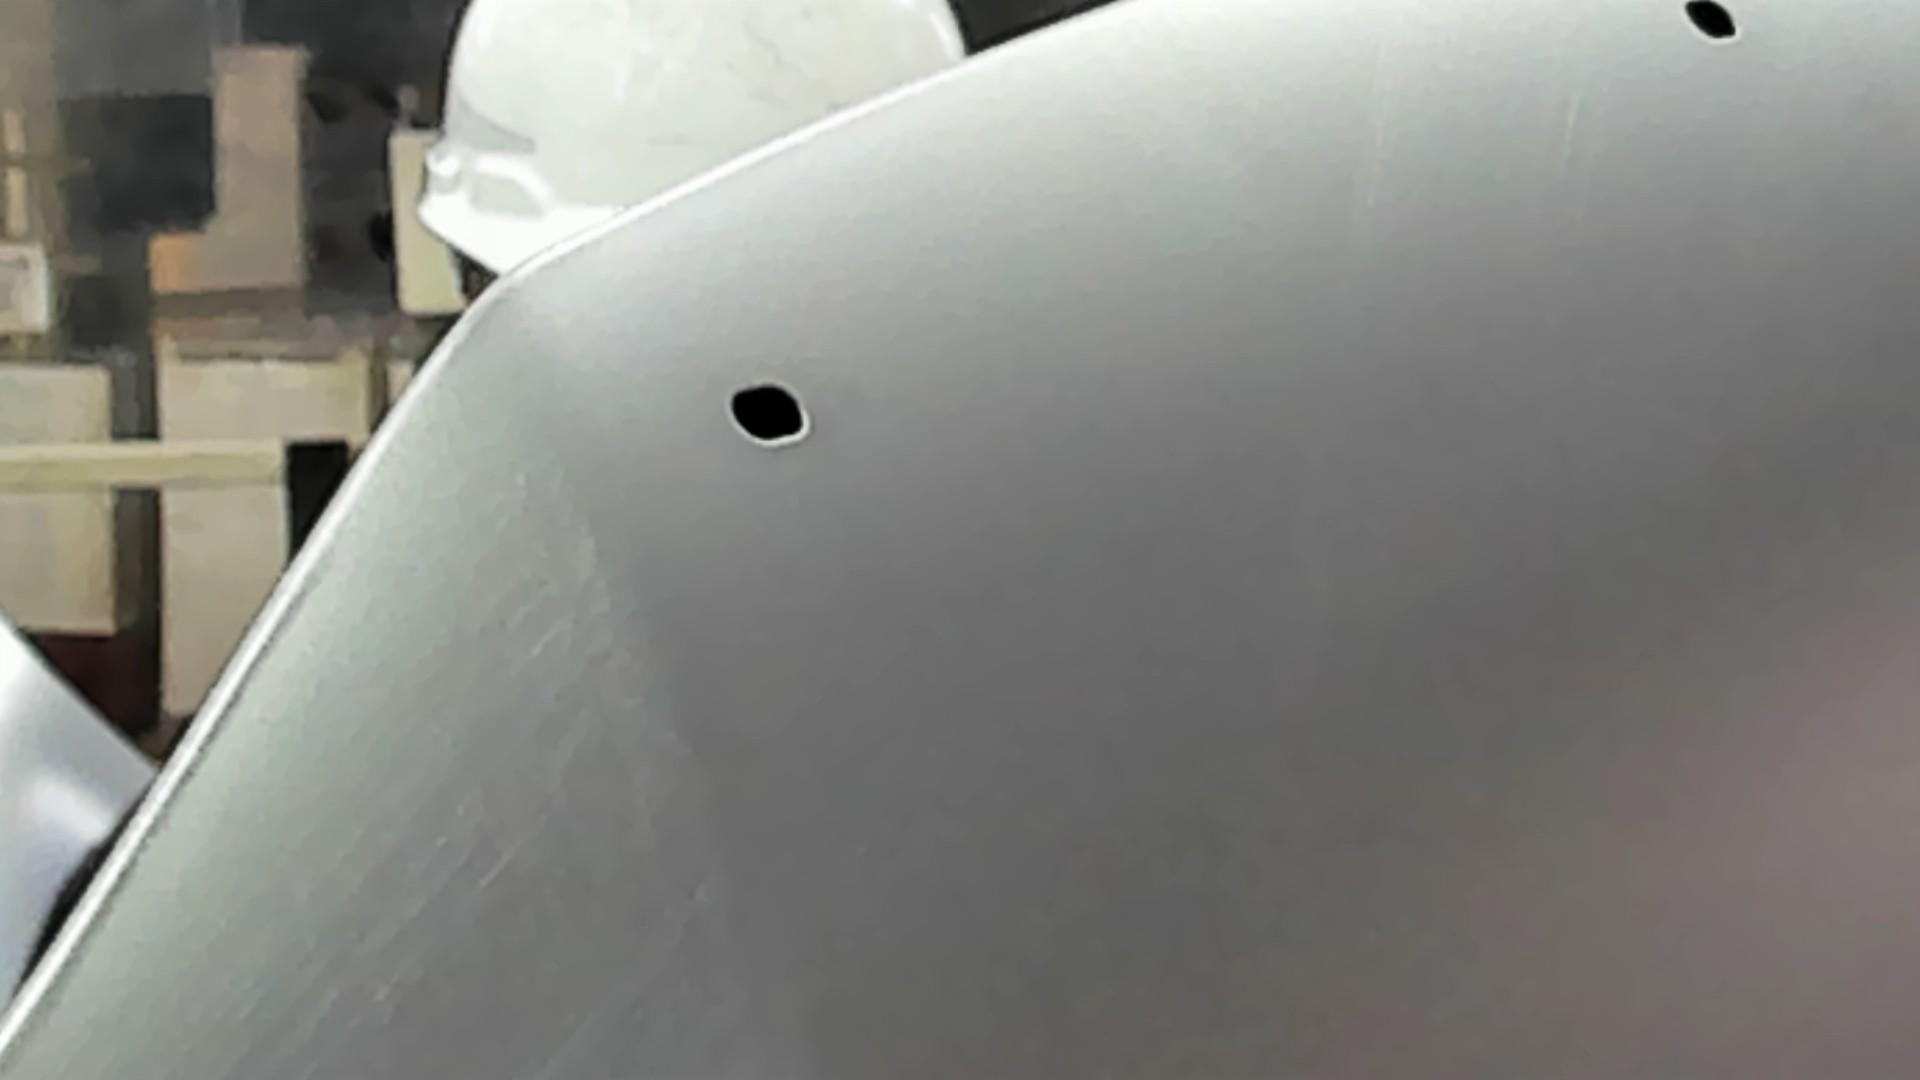amorfo: (720, 378, 814, 451), (1677, 1, 1741, 49)
